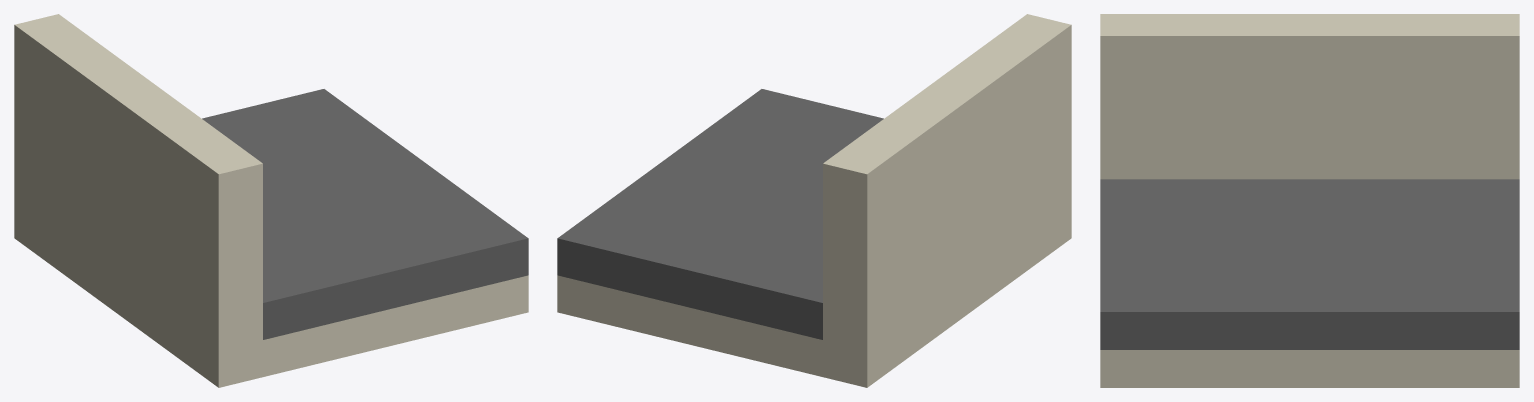
The model's file is roadTile_117.obj.
The picture shows the model from 3 angles, left to right: view 1: azimuth 30°, elevation 25°; view 2: azimuth 150°, elevation 25°; view 3: azimuth 270°, elevation 25°; orthographic projection. The views are drawn at different scales.
Visible parts, largest first — view 1: Mesh1_Group1_Model.085; view 2: Mesh1_Group1_Model.085; view 3: Mesh1_Group1_Model.085.
Part boxes in pixels (x1,y1,x2,y2): Mesh1_Group1_Model.085: (14,14,528,387); Mesh1_Group1_Model.085: (557,14,1071,387); Mesh1_Group1_Model.085: (1100,14,1519,387).
Size of the model in its own units: 2.62 by 1.73 by 3.
